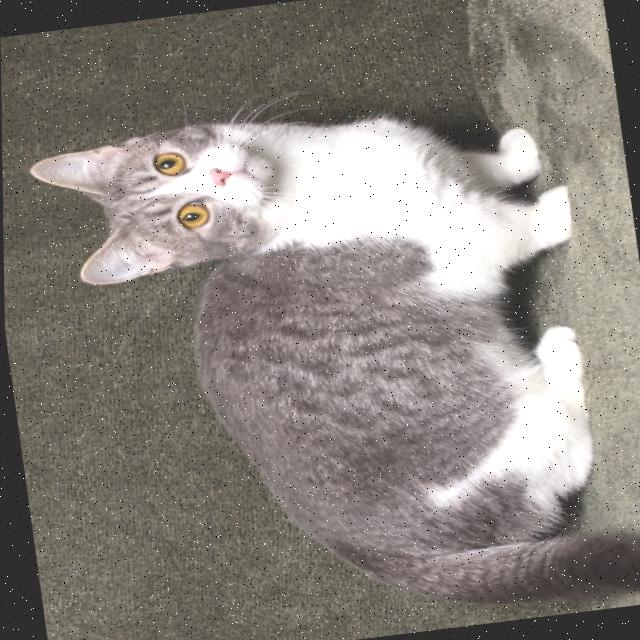Munchkin: (18, 70, 640, 640)
